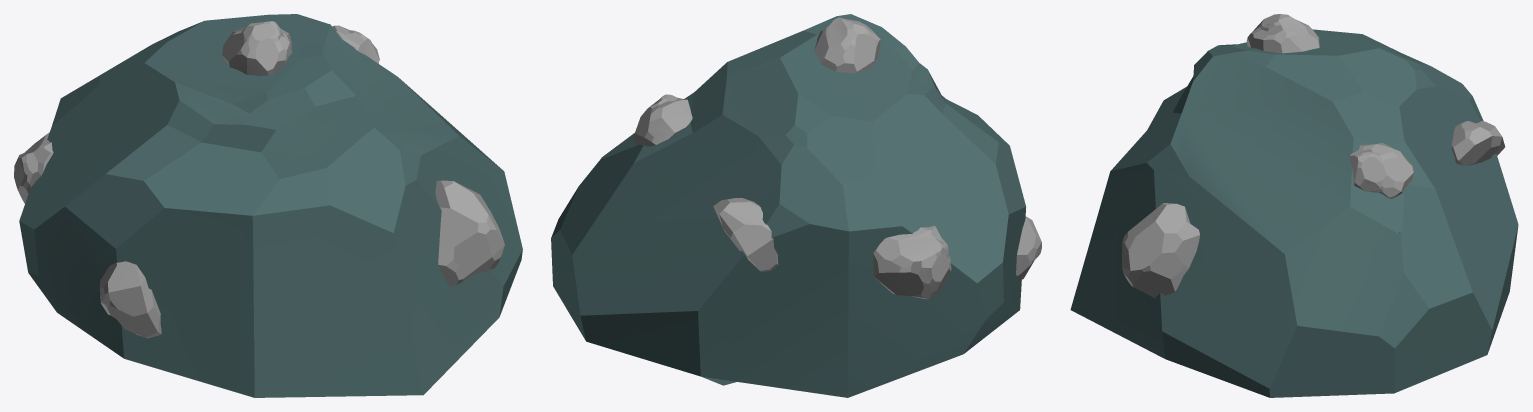
Rendered from Iron2.fbx.
3 renders of one model, left to right at view 1: azimuth 30°, elevation 25°; view 2: azimuth 150°, elevation 25°; view 3: azimuth 270°, elevation 25°, orthographic. The views are drawn at different scales.
Visible parts, largest first — view 1: Rock1, Nodes; view 2: Rock1, Nodes; view 3: Rock1, Nodes.
Boxes of the visible parts, <box> form: Rock1: <box>19,14,522,397</box>; Nodes: <box>14,21,504,338</box>; Rock1: <box>551,14,1025,397</box>; Nodes: <box>633,17,1041,299</box>; Rock1: <box>1070,29,1518,397</box>; Nodes: <box>1122,14,1505,298</box>.
Size of the model in its own units: 173 by 116 by 163.
